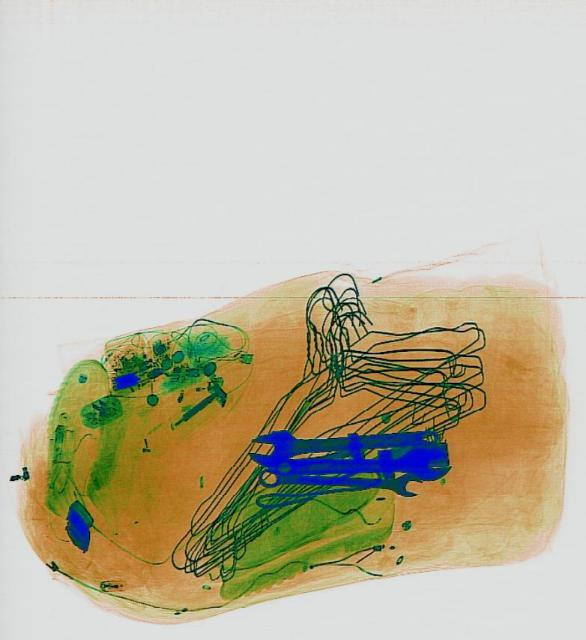Wrench: (246, 418, 438, 468), (278, 440, 451, 486), (256, 462, 420, 496)
